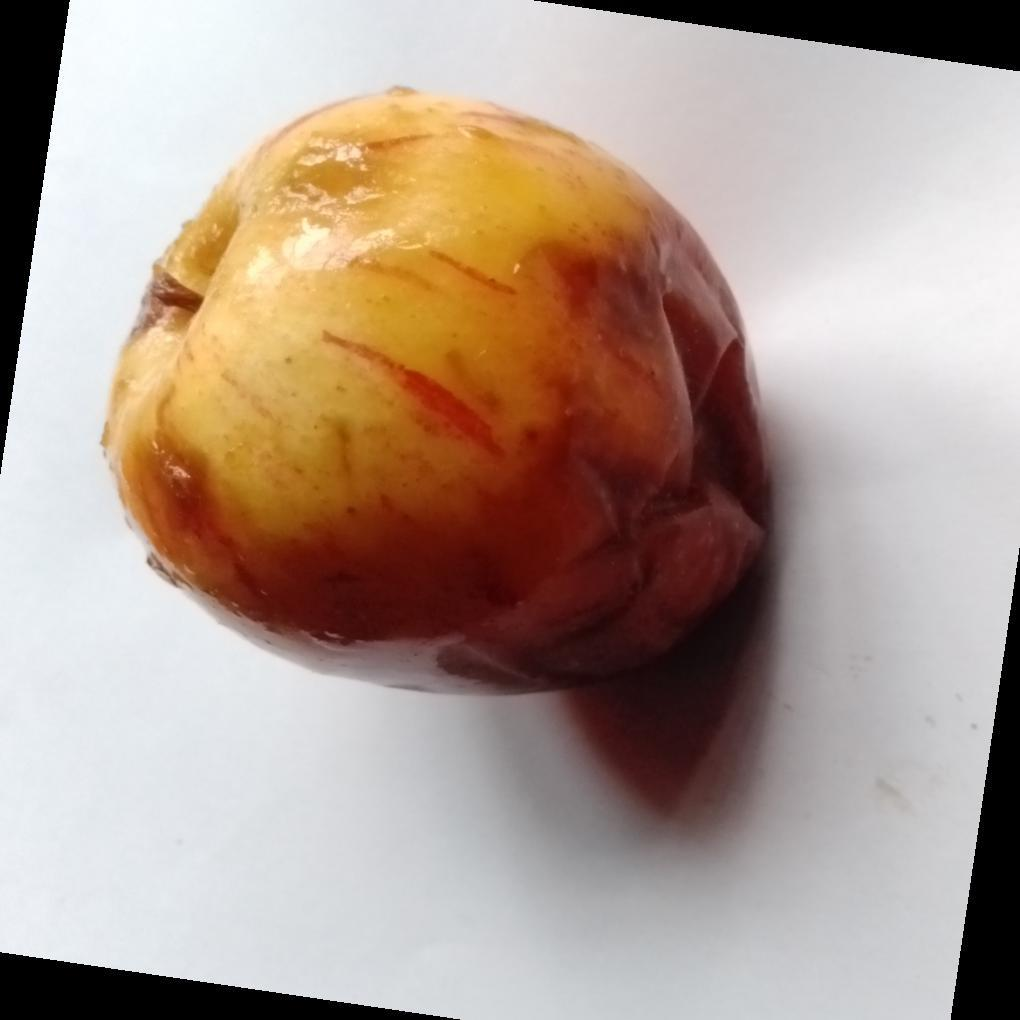FreshOrange: (99, 85, 776, 698)
